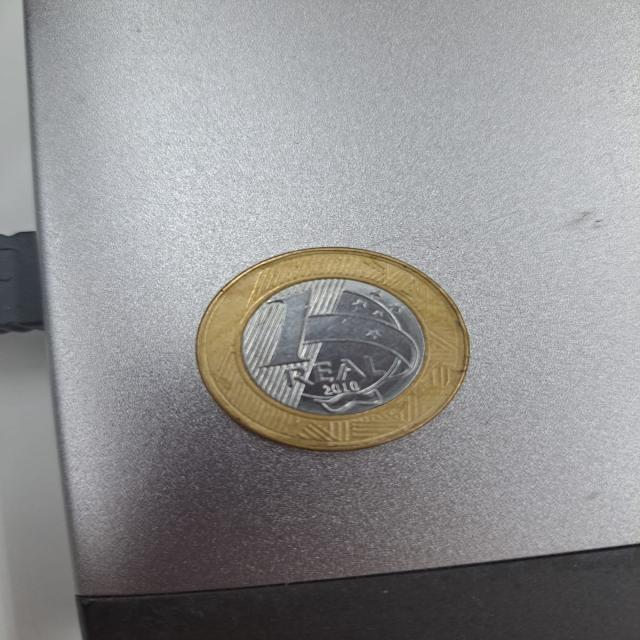1 real: (173, 238, 480, 456)
